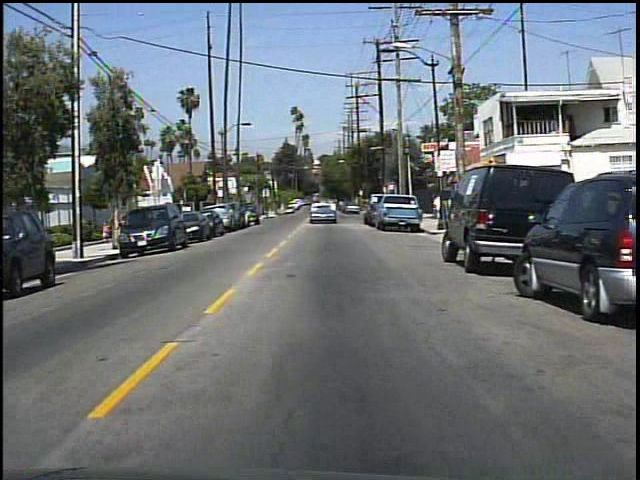person: (429, 194, 446, 224)
